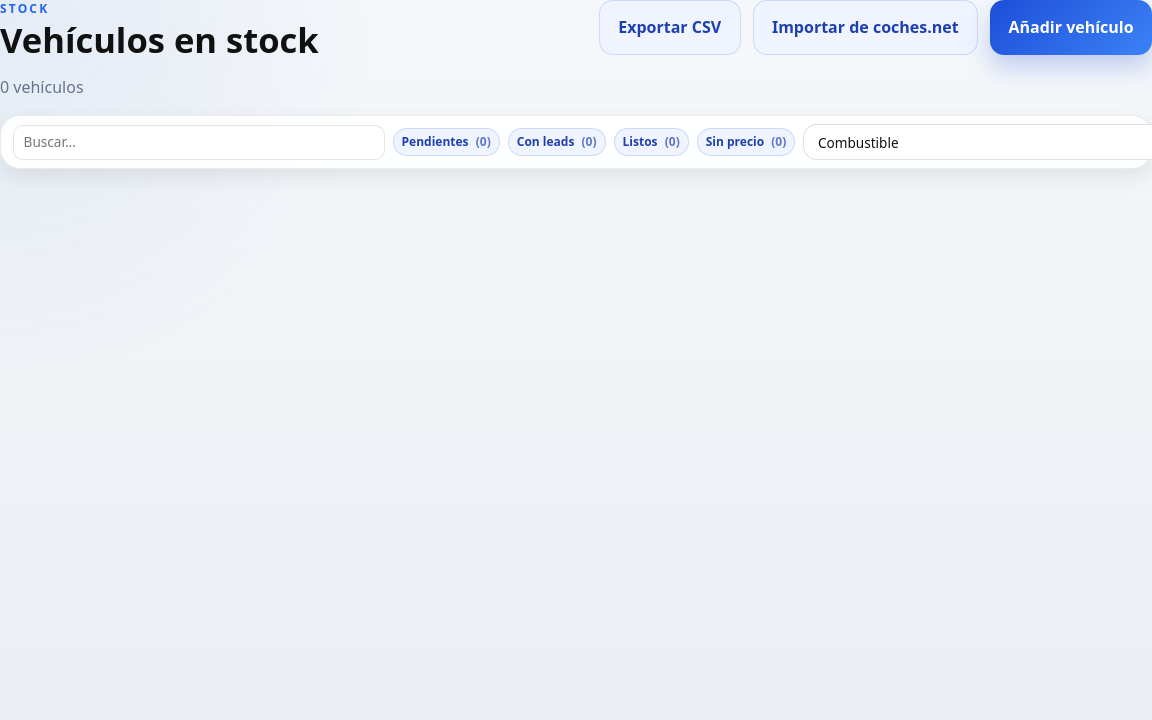
it: StockList — add vehicle form › shows add form when clicking "Añadir vehículo"
The width and height of the screenshot is (1152, 720).
Click the button "Añadir vehículo". click: [1071, 27]
box: 990,0 -> 1151,55
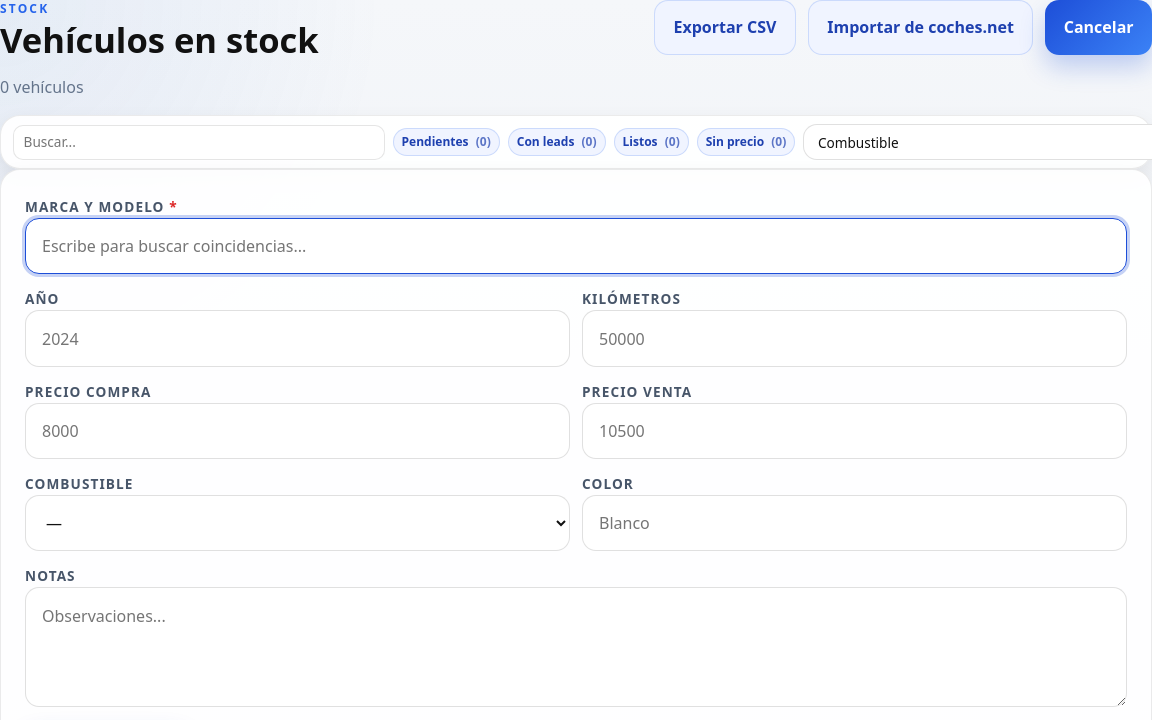
Expected: the text "Marca y modelo" is shown, 25,197 -> 178,216
Expected: the field with placeholder "Escribe para buscar coincidencias..." is shown, 25,218 -> 1127,274
